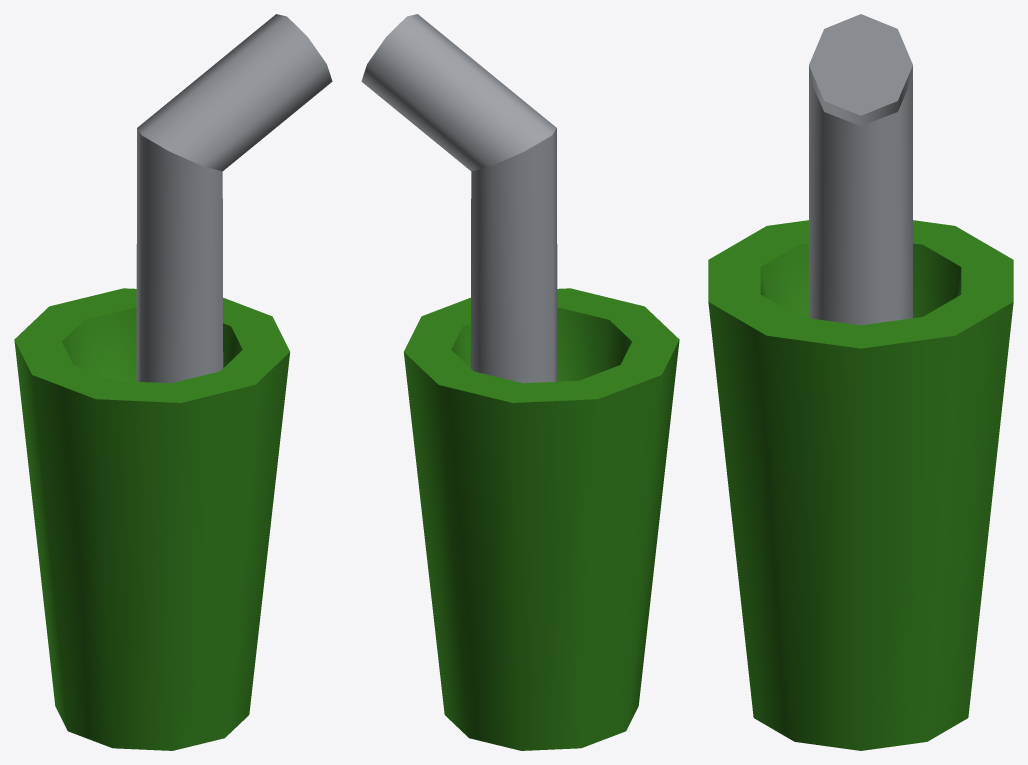
File: glass_04.fbx
3 renders of one model, left to right at view 1: azimuth 30°, elevation 25°; view 2: azimuth 150°, elevation 25°; view 3: azimuth 270°, elevation 25°, orthographic. The views are drawn at different scales.
Parts seen in each view (by area): view 1: glass_04; view 2: glass_04; view 3: glass_04.
Part boxes in pixels (box(x1,y1,x2,y2)): glass_04: box(14, 14, 332, 750); glass_04: box(361, 14, 679, 750); glass_04: box(708, 14, 1013, 750).
Size of the model in its own units: 30.03 by 65.54 by 23.7.
